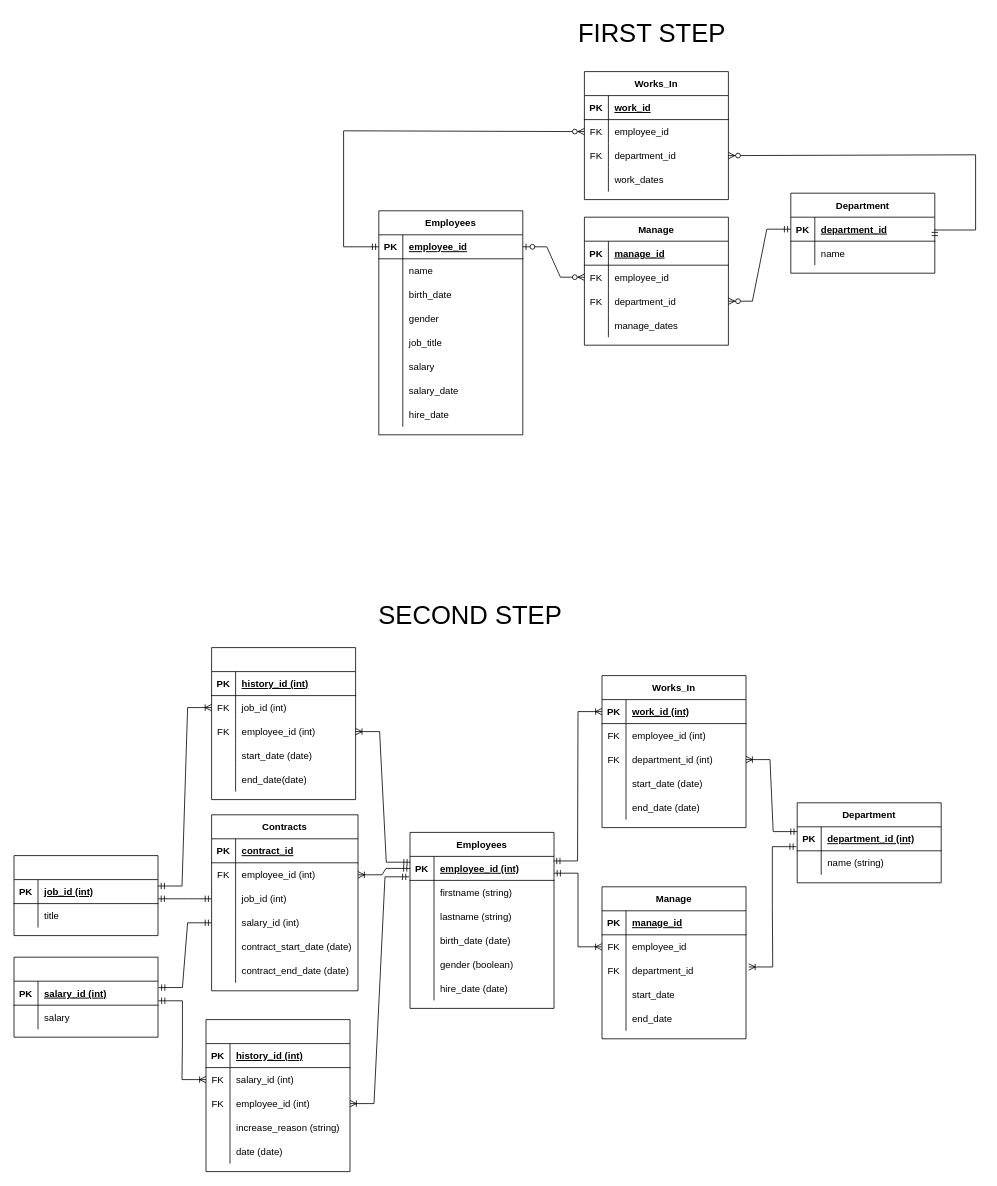
Image size: 997x1186. Some labels were removed from this diagram. The shapes that lost their labels are listed below. From the top down, each one's box as (x1, y1, x2, y2) in pixels, then its label:
(211, 647, 356, 800): Jobs_History
(13, 855, 158, 936): Jobs
(13, 956, 158, 1037): Salaries
(205, 1019, 350, 1172): Salary_History
